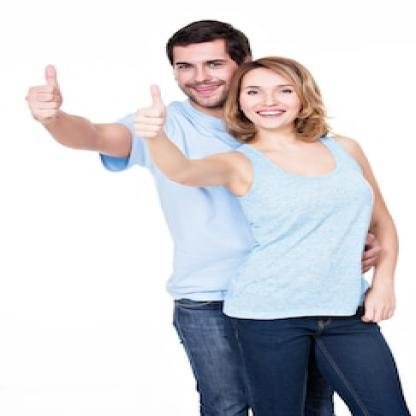thumb_up: (22, 61, 74, 124), (128, 81, 174, 145)
